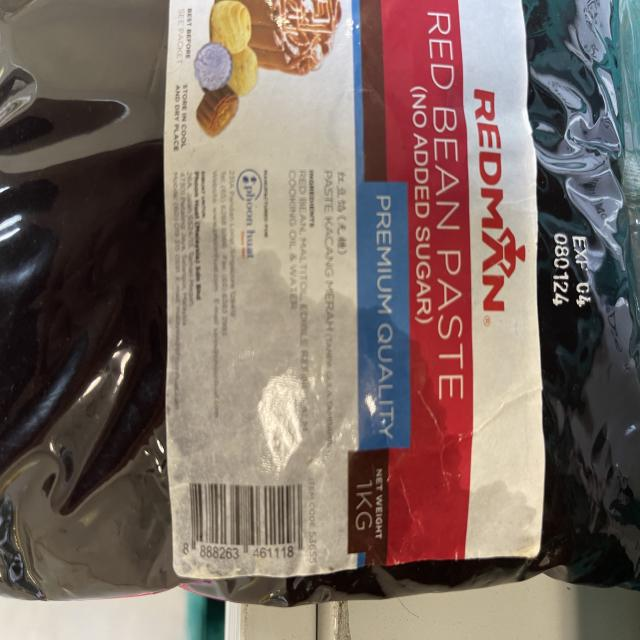object_name: (4, 0, 638, 567)
